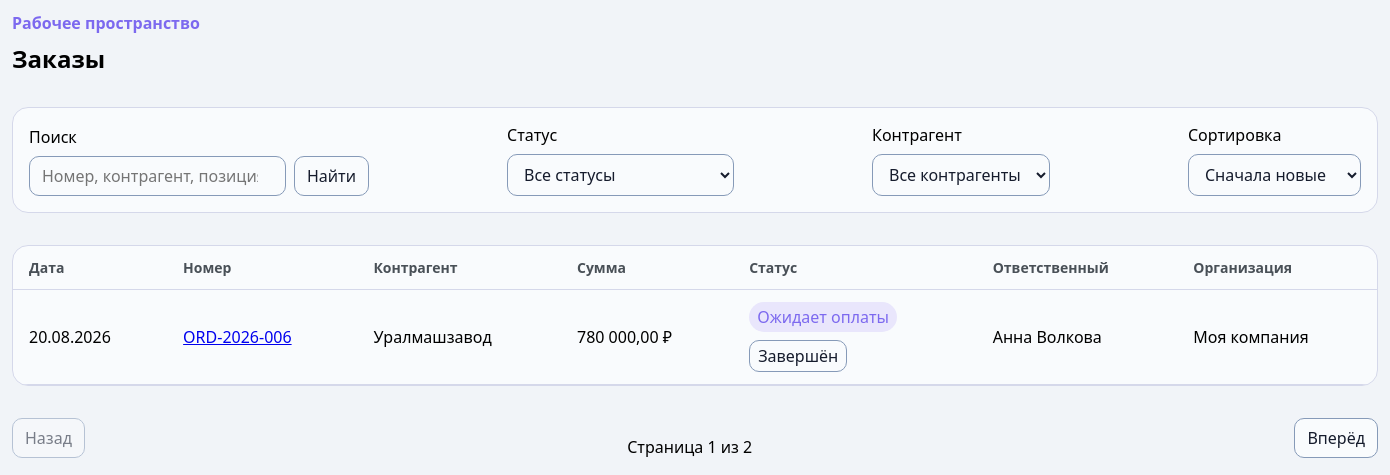
Test: Orders list › does not let a pending transition restore a stale query page
The width and height of the screenshot is (1390, 475).
Click the button "Завершён". click: (798, 356)
box: [749,340,847,372]
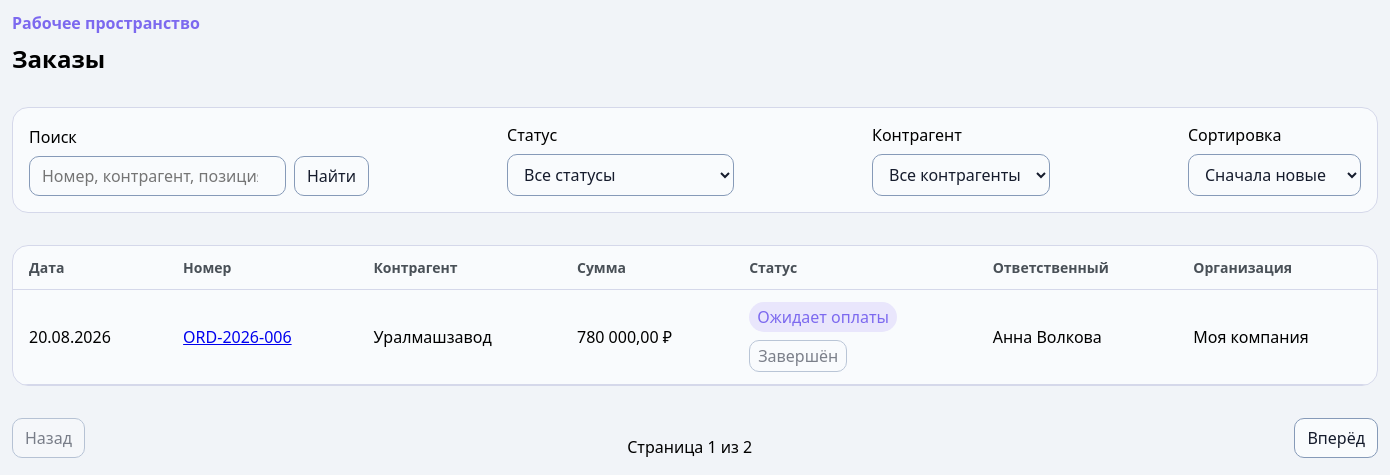
Type "новый запрос" into the search field named "Поиск заказов". click: (158, 176)
box: [29,156,286,196]
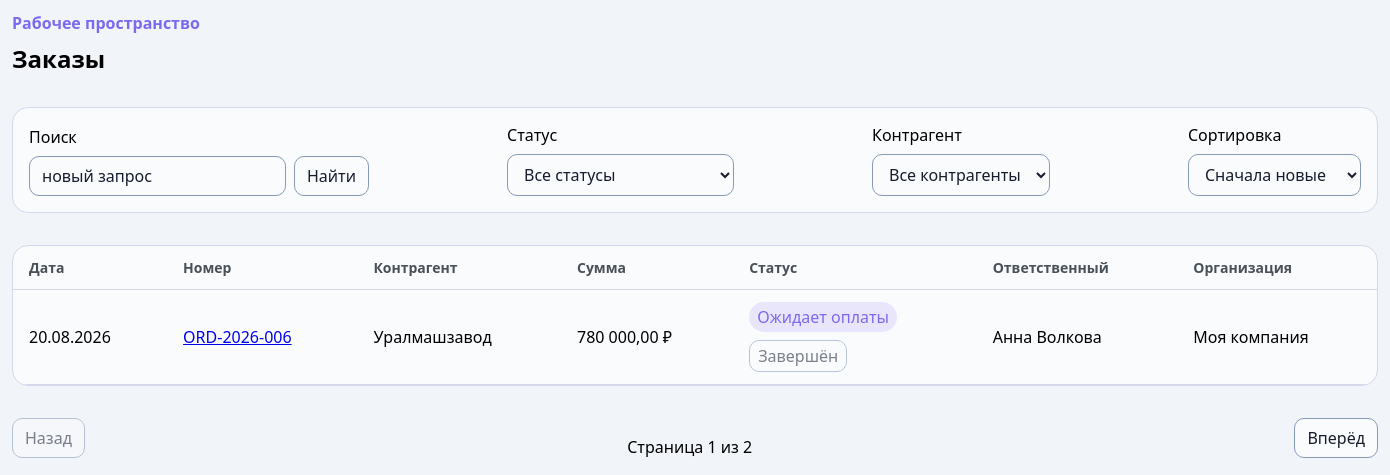
Submit the form, box [29,126,369,196]
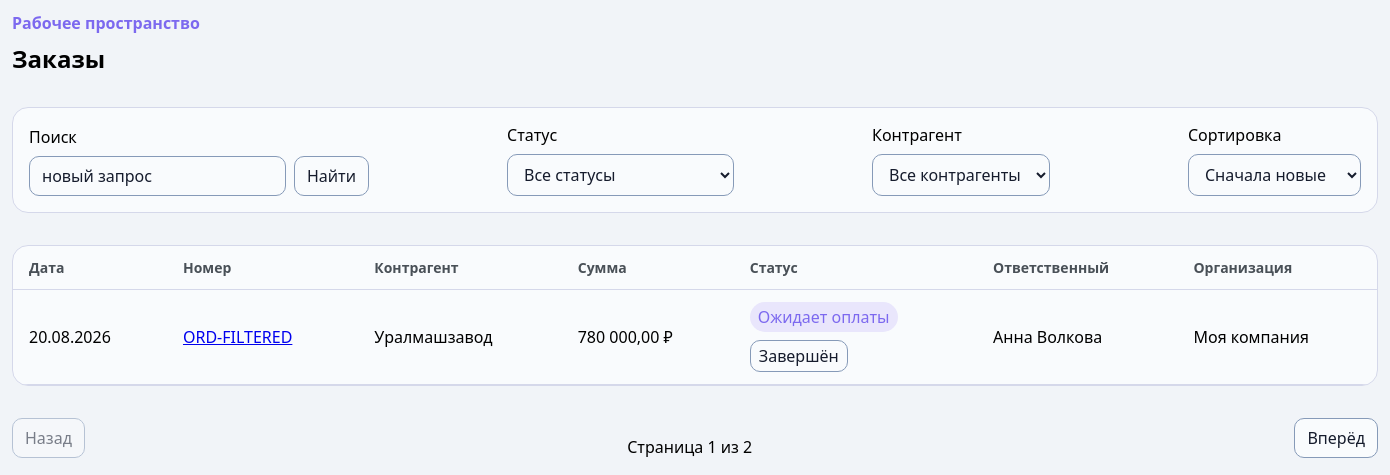
expect the table shows "ORD-FILTERED": met, box [183,326,292,348]
expect the link "ORD-2026-006" no longer shows "ORD-2026-006": met
